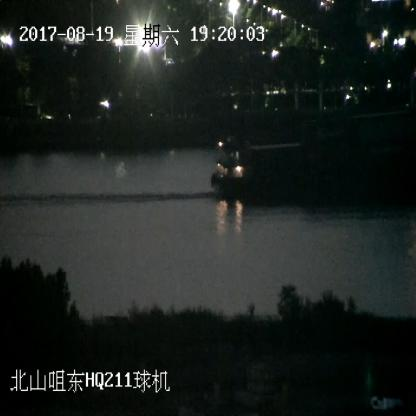Container Ship: (215, 129, 415, 210)
